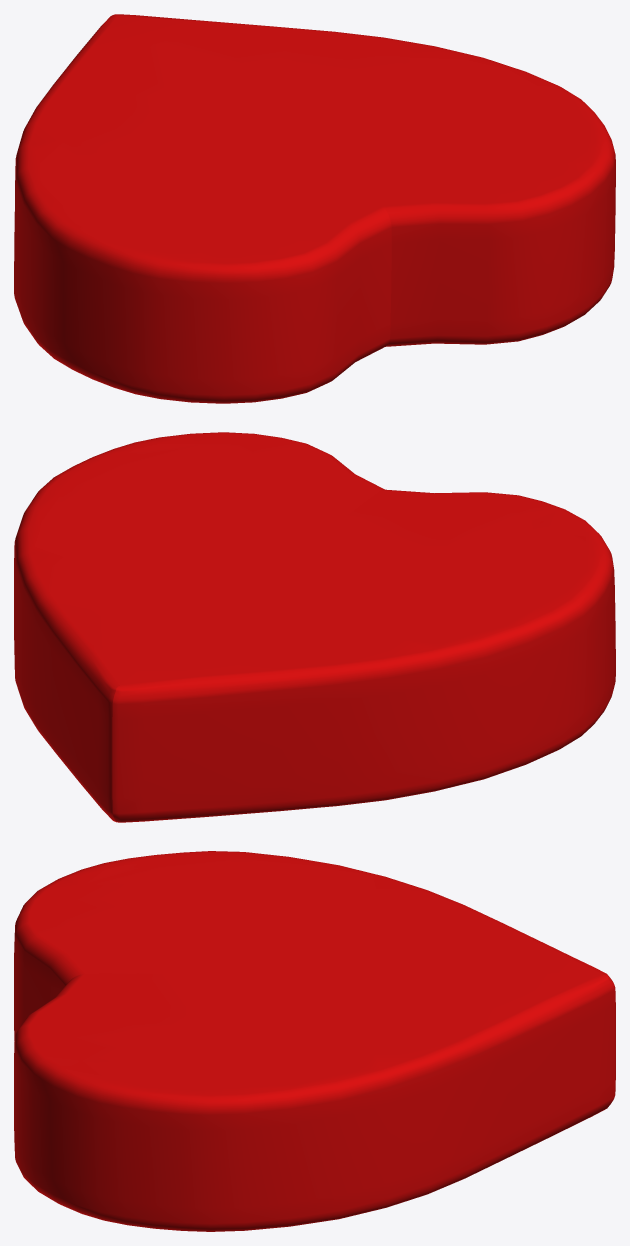
File: Heart.fbx
The picture shows the model from 3 angles, top to bottom: view 1: azimuth 30°, elevation 25°; view 2: azimuth 150°, elevation 25°; view 3: azimuth 270°, elevation 25°; orthographic projection.
Visible parts, largest first — view 1: Object001, Cylinder004; view 2: Object001, Cylinder004; view 3: Cylinder004, Object001.
Part boxes in pixels (box(x1,y1,x2,y2)): Object001: box(14, 14, 391, 403); Cylinder004: box(115, 14, 615, 346); Object001: box(112, 489, 615, 822); Cylinder004: box(14, 432, 384, 821); Cylinder004: box(14, 972, 615, 1231); Object001: box(14, 851, 613, 1041).
Size of the model in its own units: 99.82 by 25 by 98.97.
